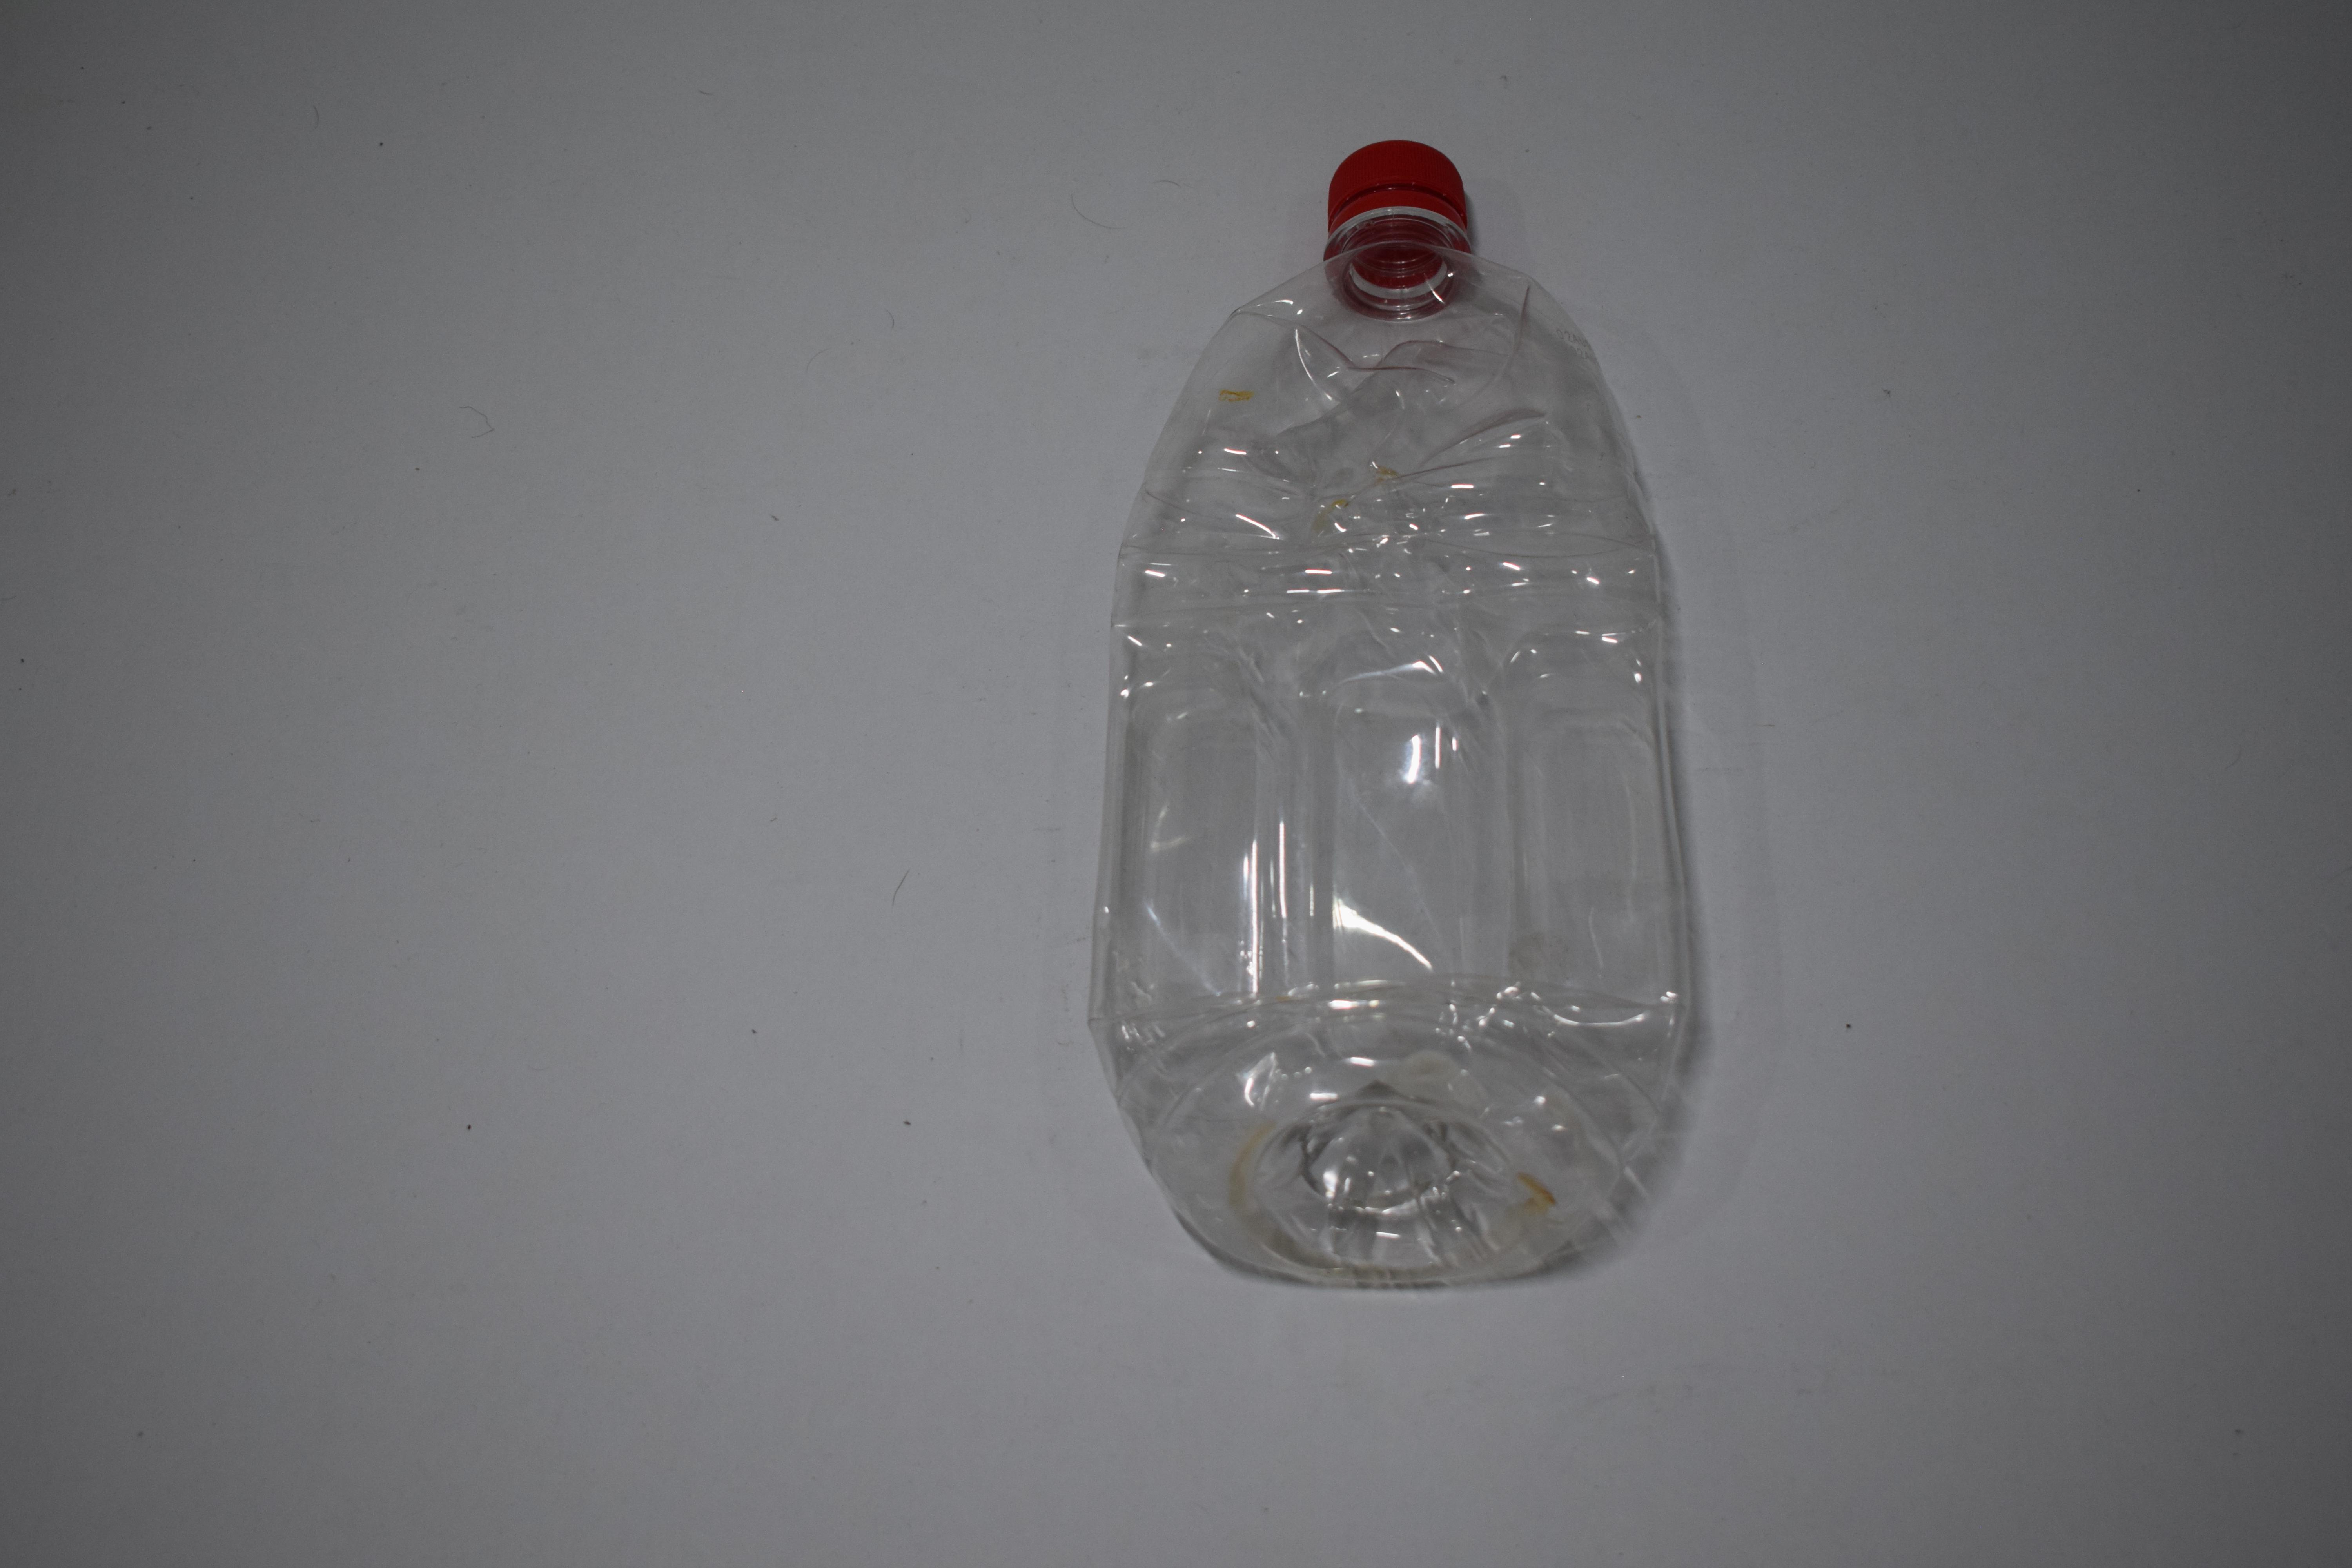bottle: (0, 56, 520, 1218)
